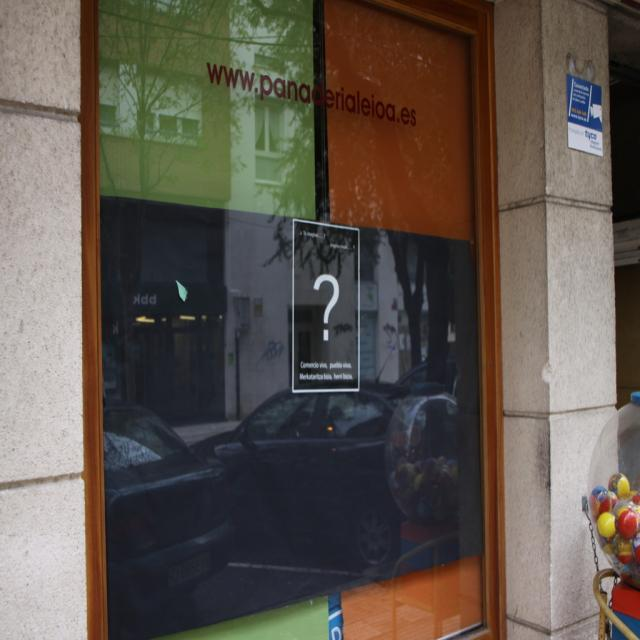other: (184, 332, 456, 568), (98, 409, 230, 640)
